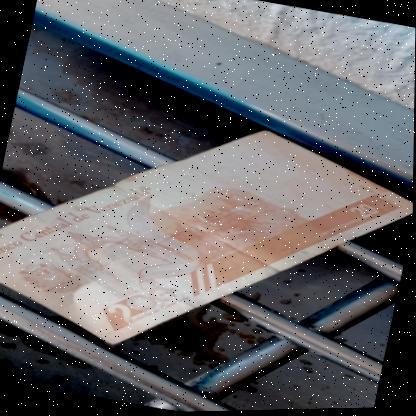twenty-back-vef: (0, 79, 415, 399)
